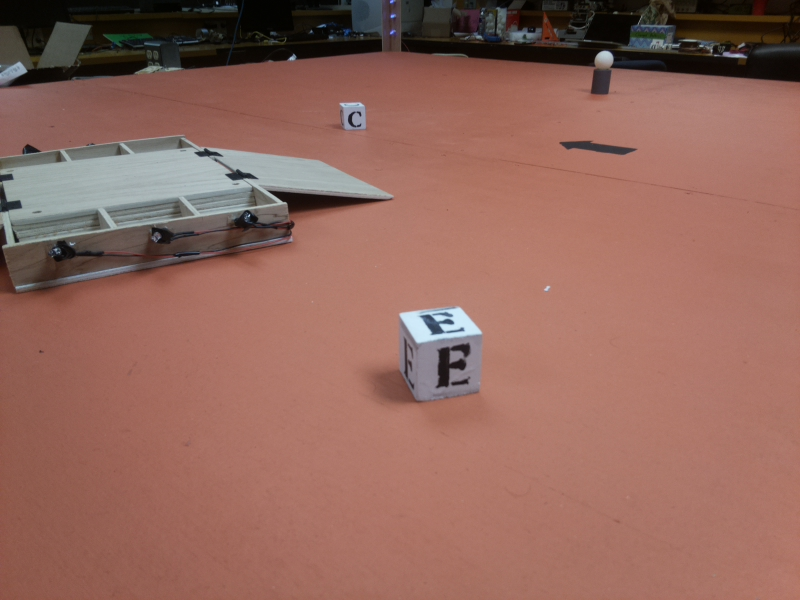blockC: (339, 102, 370, 131)
blockE: (396, 307, 487, 404)
corner: (377, 1, 403, 54)
obstacle: (589, 46, 616, 101)
side: (6, 184, 290, 296)
slope: (211, 135, 401, 208)
start: (557, 136, 640, 163)
